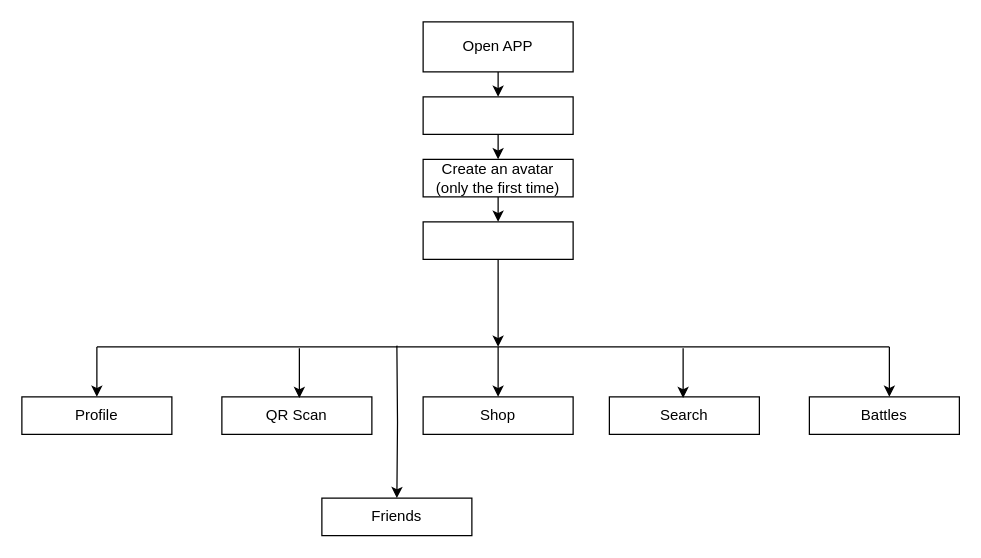
This 981x558 diagram has some shape labels left out. The shapes that lost their labels are listed below. From the top down, each one's centre as x and y in pixels, then its label:
point (497, 115): Log in / Register (only the first time)
point (497, 240): Home Page
